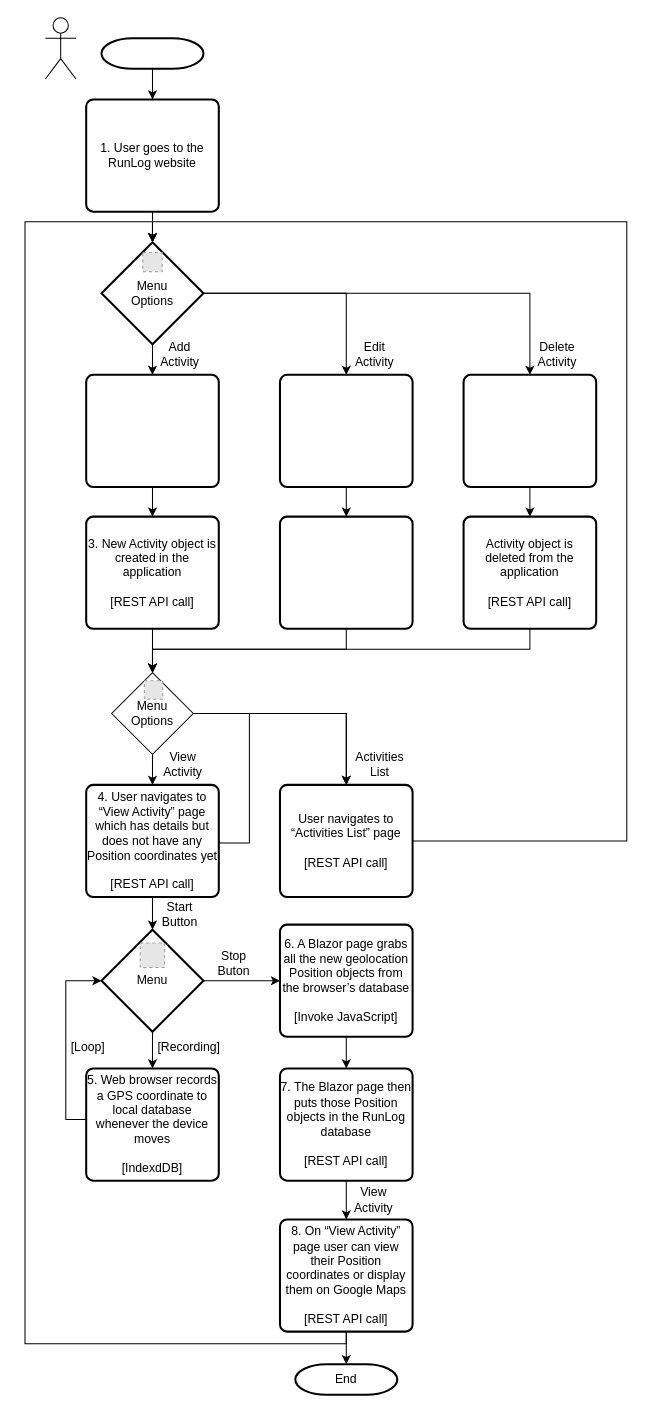
Image size: 653x1414. Some labels were removed from this diagram. Grey dashed boxes stand in for pictures. Each missing label, with the centre of its shape:
10. User can delete their Activity: point 529,430
2. User completes the Activity form fields and clicks "Submit": point 152,430
9. User can edit their Activity *: point 345,430
Activity object is edited in the application [REST API call]: point 345,572
Actor: point 60,48
Start: point 152,53
